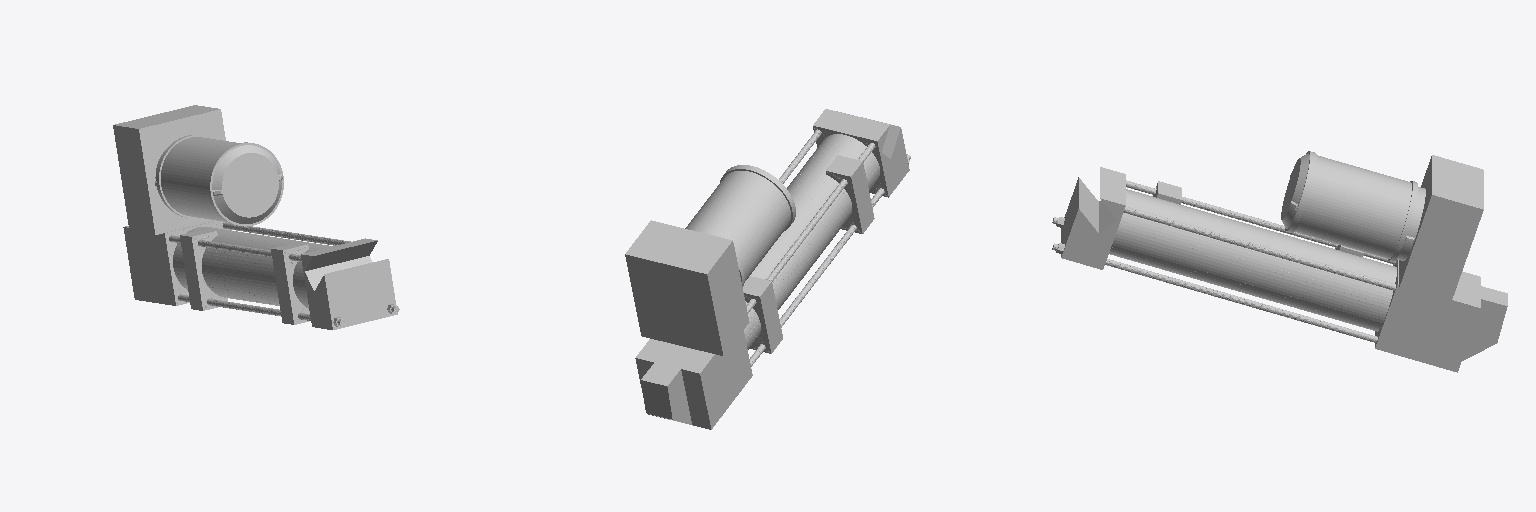
File: hydraulic.obj
3 renders of one model, left to right at view 1: azimuth 30°, elevation 25°; view 2: azimuth 150°, elevation 25°; view 3: azimuth 270°, elevation 25°, orthographic.
Parts seen in each view (by area): view 1: hydraulic; view 2: hydraulic; view 3: hydraulic.
Boxes of the visible parts, x1=… form: hydraulic: x1=113, y1=105, x2=399, y2=329; hydraulic: x1=625, y1=109, x2=910, y2=429; hydraulic: x1=1052, y1=151, x2=1507, y2=372.
Size of the model in its own units: 8.53 by 20.04 by 40.93.